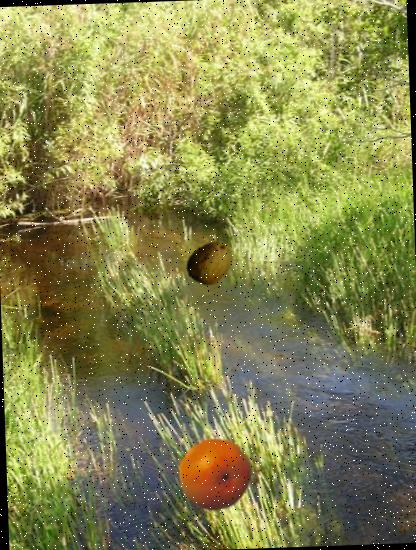Grapefruit: (177, 437, 254, 514)
Papaya: (184, 236, 237, 289)
